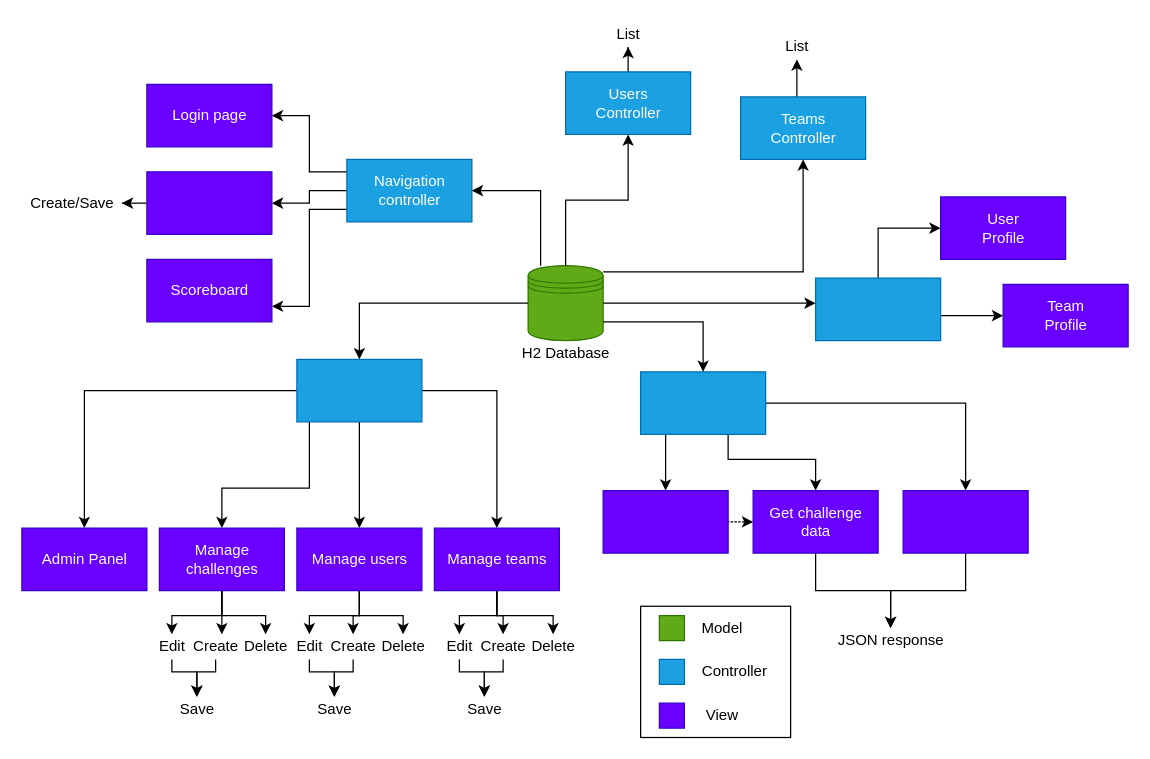
Some shapes in this 1150 by 759 pixel diagram are drawn without their labels. Each missing label, with the centre of its shape:
"Admin Controller" goes at point 359,390.
"Challenge Controller" goes at point 702,402.
"Check flag for challenge" goes at point 965,521.
"List challenges" goes at point 665,521.
"Profile Controller" goes at point 877,309.
"Register page" goes at point 209,202.
